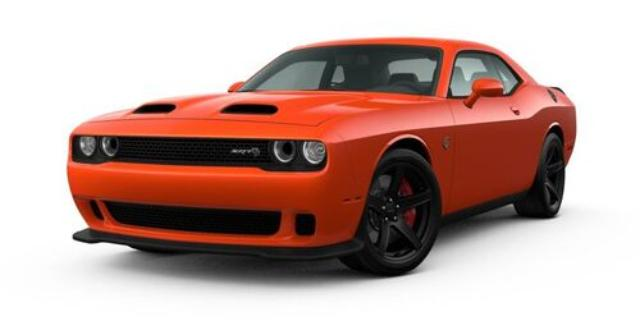dodge: (66, 37, 578, 278)
